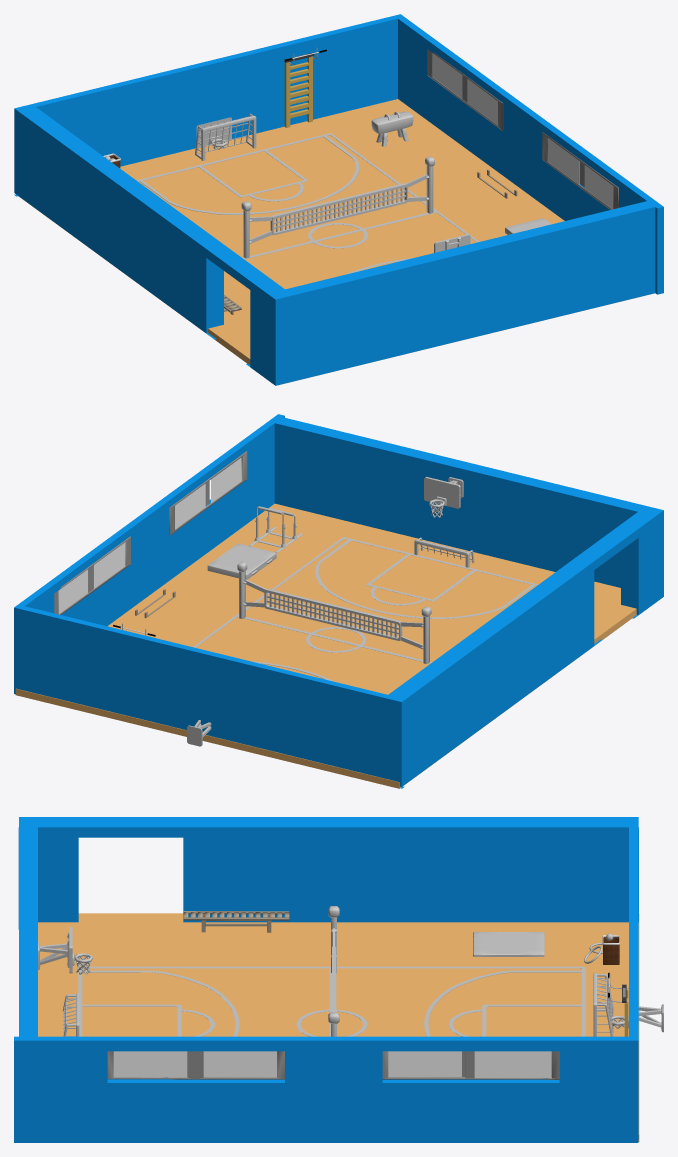
The model's file is LastMapVariant.fbx.
3 views of the same model, one above another, from view 1: azimuth 30°, elevation 25°; view 2: azimuth 150°, elevation 25°; view 3: azimuth 270°, elevation 25° (orthographic). The views are drawn at different scales.
Parts seen in each view (by area): view 1: Cube_013, Cube_001, Cube_013.001, court_basketball, badminton_net.001, Cube_007, soccer_goal, badminton_net, B_2_4_2_Exterior_Glass__001, B_2_4_1Exterior_Glass, B_2_4_2_Exterior_Glass_, B_2_4_1Exterior_Glass_001 (+4 smaller); view 2: Cube_013, Cube_001, Cube_013.001, court_basketball, badminton_net.001, mattress_thick, basketball_hoop, badminton_net, B_2_4_1Exterior_Glass, B_2_1_1_PVC_Window_Frame_001, B_2_4_2_Exterior_Glass__001, B_2_4_1Exterior_Glass_001 (+4 smaller); view 3: Cube_013, Cube_001, Cube_013.001, court_basketball, B_2_4_2_Exterior_Glass_, B_2_4_1Exterior_Glass_001, B_2_4_1Exterior_Glass, B_2_4_2_Exterior_Glass__001, mattress_thick__1_, basketball_hoop, Seat_Slats_001, B_2_1_1_PVC_Window_Frame_001 (+5 smaller).
Boxes of the visible parts, x1,y1,x2,y2 form: Cube_013: [14, 14, 663, 381]; Cube_001: [20, 99, 651, 382]; Cube_013.001: [14, 104, 293, 385]; court_basketball: [136, 133, 479, 274]; badminton_net.001: [270, 183, 407, 235]; Cube_007: [284, 56, 312, 127]; soccer_goal: [195, 113, 256, 160]; badminton_net: [241, 156, 434, 258]; B_2_4_2_Exterior_Glass__001: [548, 138, 579, 184]; B_2_4_1Exterior_Glass: [467, 79, 497, 124]; B_2_4_2_Exterior_Glass_: [432, 53, 462, 98]; B_2_4_1Exterior_Glass_001: [584, 165, 613, 209]; Cube_013: [14, 414, 645, 788]; Cube_001: [15, 503, 636, 788]; Cube_013.001: [384, 506, 663, 786]; court_basketball: [193, 537, 538, 681]; badminton_net.001: [264, 588, 402, 640]; mattress_thick: [207, 543, 276, 579]; basketball_hoop: [424, 477, 463, 517]; badminton_net: [237, 561, 431, 663]; B_2_4_1Exterior_Glass: [93, 542, 125, 588]; B_2_1_1_PVC_Window_Frame_001: [169, 451, 247, 535]; B_2_4_2_Exterior_Glass__001: [175, 483, 205, 529]; B_2_4_1Exterior_Glass_001: [211, 457, 241, 502]; Cube_013: [14, 827, 638, 1142]; Cube_001: [38, 913, 639, 1142]; Cube_013.001: [18, 817, 638, 922]; court_basketball: [78, 966, 585, 1036]; B_2_4_2_Exterior_Glass_: [474, 1051, 551, 1077]; B_2_4_1Exterior_Glass_001: [113, 1051, 187, 1077]; B_2_4_1Exterior_Glass: [388, 1051, 464, 1077]; B_2_4_2_Exterior_Glass__001: [203, 1051, 276, 1077]; mattress_thick__1_: [473, 931, 544, 956]; basketball_hoop: [38, 927, 92, 974]; Seat_Slats_001: [183, 911, 289, 920]; B_2_1_1_PVC_Window_Frame_001: [107, 1051, 284, 1079].
Bounding box in the file's own units: 2956 × 712 × 3627.
